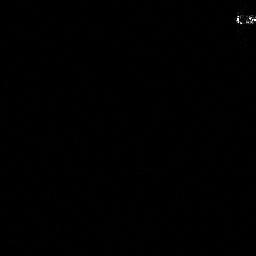ship: (235, 14, 256, 25)
